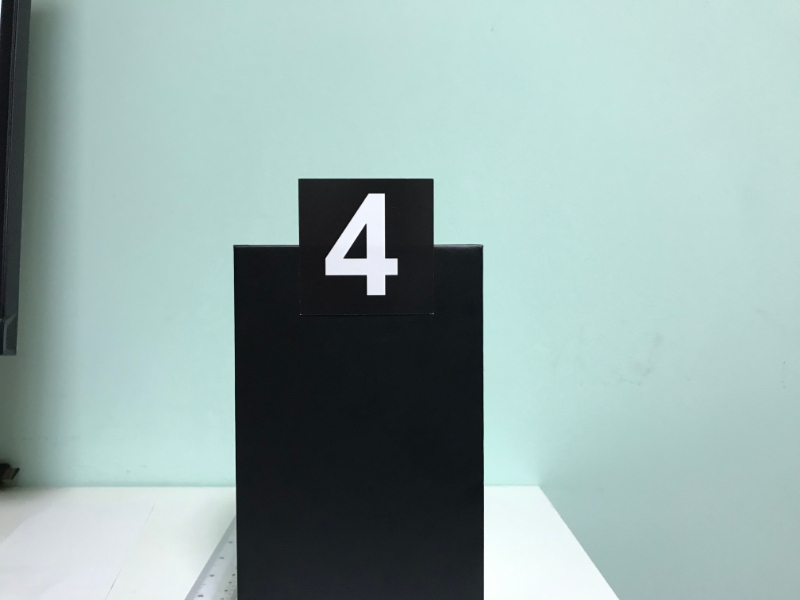Four-9: (299, 179, 433, 314)
